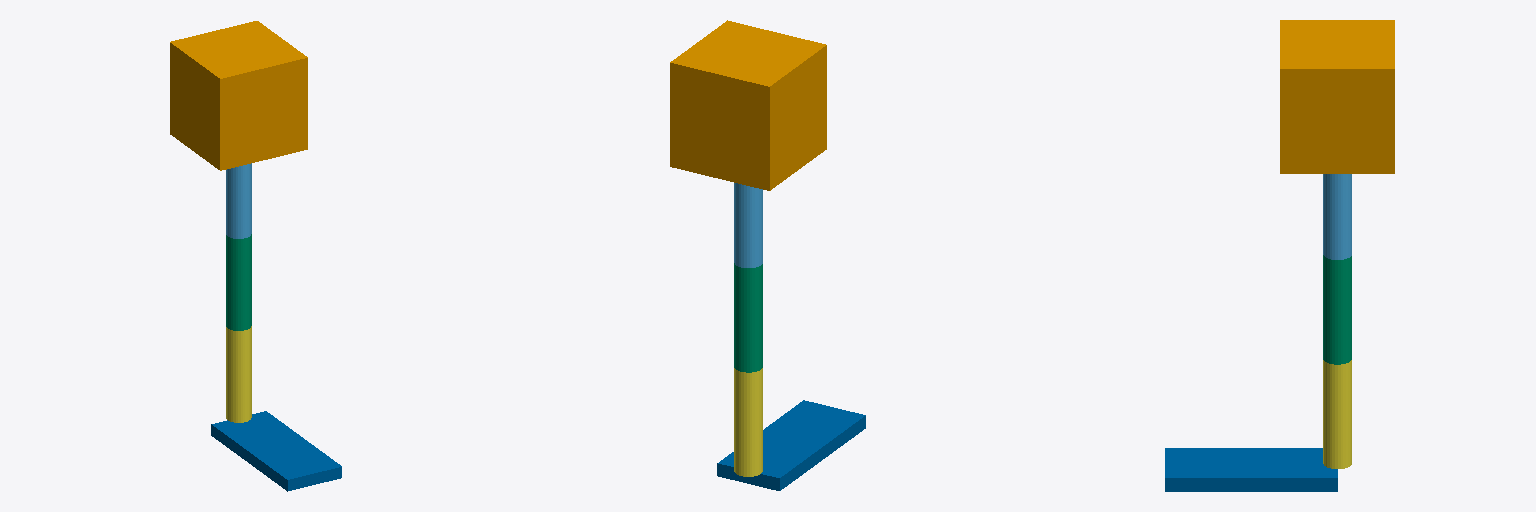
robot.urdf — hopping_robot:
<?xml version="1.0" encoding="utf-8"?>
<!-- =================================================================================== -->
<!-- |    This document was autogenerated by xacro from hopping_robot.xacro            | -->
<!-- |    EDITING THIS FILE BY HAND IS NOT RECOMMENDED                                 | -->
<!-- =================================================================================== -->
<!-- Author: [author]
     Email: [email redacted]
     Date: 09/29/2020   -->
<robot name="hopping_robot">
  <link name="torso">
    <visual>
      <geometry>
        <box size="0.4 0.4 0.4"/>
      </geometry>
      <material name="gray">
        <!-- color rgba="255 0 0 0.75" /-->
      </material>
      <origin rpy="0 0 0" xyz="0.0 0.0 0.0"/>
    </visual>
    <inertial>
      <origin rpy="0 0 0" xyz="0.0 0.0 0.0"/>
      <mass value="1.0"/>
      <!-- Fix the inertia tag-->
      <inertia ixx="0.0266666666667" iyy="0.0266666666667" izz="0.0266666666667"/>
    </inertial>
    <collision>
      <origin rpy="0 0 0" xyz="0.0 0.0 0.0"/>
      <geometry>
        <box size="0.4 0.4 0.4"/>
      </geometry>
    </collision>
  </link>
  <link name="link1">
    <visual>
      <geometry>
        <cylinder length="0.4" radius="0.05"/>
      </geometry>
      <material name="gray">
        <!-- color rgba="0 255 0 0.4" / -->
      </material>
      <origin rpy="0 0 0" xyz="0 0 0"/>
    </visual>
    <inertial>
      <origin rpy="0 0 0" xyz="0 0 0"/>
      <mass value="1.0"/>
      <inertia ixx="0.0133333333333" iyy="0.0133333333333" izz="0.0133333333333"/>
    </inertial>
    <collision>
      <origin rpy="0 0 0" xyz="0 0 0"/>
      <geometry>
        <cylinder length="0.4" radius="0.05"/>
      </geometry>
    </collision>
  </link>
  <link name="link2">
    <visual>
      <geometry>
        <cylinder length="0.4" radius="0.05"/>
      </geometry>
      <material name="gray">
        <!-- color rgba="233 0 255 0.4" / -->
      </material>
      <origin rpy="0 0 0" xyz="0 0 -0.2"/>
    </visual>
    <inertial>
      <origin rpy="0 0 0" xyz="0 0 -0.2"/>
      <mass value="1.0"/>
      <inertia ixx="0.0133333333333" iyy="0.0133333333333" izz="0.0133333333333"/>
    </inertial>
    <collision>
      <origin rpy="0 0 0" xyz="0 0 -0.2"/>
      <geometry>
        <cylinder length="0.4" radius="0.05"/>
      </geometry>
    </collision>
  </link>
  <link name="link3">
    <visual>
      <geometry>
        <cylinder length="0.4" radius="0.05"/>
      </geometry>
      <material name="gray">
        <!-- color rgba="0 0 255 0.4"/ -->
      </material>
      <origin rpy="0 0 0" xyz="0 0 -0.2"/>
    </visual>
    <inertial>
      <origin rpy="0 0 0" xyz="0 0 -0.2"/>
      <mass value="1.0"/>
      <inertia ixx="0.0133333333333" iyy="0.0133333333333" izz="0.0133333333333"/>
    </inertial>
    <collision>
      <origin rpy="0 0 0" xyz="0 0 -0.2"/>
      <geometry>
        <cylinder length="0.4" radius="0.05"/>
      </geometry>
    </collision>
  </link>
  <link name="foot">
    <visual>
      <geometry>
        <box size="0.25 0.6 0.05"/>
      </geometry>
      <material name="gray">
        <!-- color rgba="0 255 0 0.5" / -->
      </material>
      <origin rpy="0 0 0" xyz="0.0 -0.3 0.0"/>
    </visual>
    <inertial>
      <origin rpy="0 0 0" xyz="0.0 -0.3 0.0"/>
      <mass value="1.0"/>
      <!-- Fix the inertia tag-->
      <inertia ixx="0.0302083333333" iyy="0.00541666666667" izz="0.0352083333333"/>
    </inertial>
    <collision>
      <origin rpy="0 0 0" xyz="0.0 -0.3 0.0"/>
      <geometry>
        <box size="0.25 0.6 0.05"/>
      </geometry>
    </collision>
  </link>
  <joint name="torso_leg" type="fixed">
    <parent link="torso"/>
    <child link="link1"/>
    <origin rpy="0 0 0" xyz="0.0 0.0 -0.4"/>
    <axis xyz="0 0 0"/>
  </joint>
  <joint name="link1_link2" type="revolute">
    <origin rpy="0 0 0" xyz="0.0 0.0 -0.2"/>
    <axis xyz="1 0 0"/>
    <parent link="link1"/>
    <child link="link2"/>
    <!-- What to set these to? -->
    <limit effort="10" lower="-1.57" upper="1.57" velocity="1.0"/>
  </joint>
  <joint name="link2_link3" type="revolute">
    <origin rpy="0 0 0" xyz="0.0 0.0 -0.4"/>
    <axis xyz="1 0 0"/>
    <parent link="link2"/>
    <child link="link3"/>
    <!-- What to set these to? -->
    <limit effort="10" lower="-1.57" upper="1.57" velocity="1.0"/>
  </joint>
  <joint name="leg_foot" type="revolute">
    <origin rpy="0 0 0" xyz="0.0 0.0 -0.425"/>
    <axis xyz="1 0 0"/>
    <parent link="link3"/>
    <child link="foot"/>
    <!-- What to set these to? -->
    <limit effort="10" lower="0.0" upper="1.57" velocity="1.0"/>
  </joint>
  <transmission name="leg_foot_trans" type="transmission_interface/SimpleTransmission">
    <joint name="leg_foot_trans"/>
    <actuator name="leg_foot_trans"/>
    <!-- What to set these to? -->
    <motorInertia>0.0000049</motorInertia>
    <mechanicalReduction>50</mechanicalReduction>
  </transmission>
  <transmission name="link1_link2_trans" type="transmission_interface/SimpleTransmission">
    <joint name="link1_link2_trans"/>
    <actuator name="link1_link2_trans"/>
    <!-- What to set these to? -->
    <motorInertia>0.0000049</motorInertia>
    <mechanicalReduction>50</mechanicalReduction>
  </transmission>
  <transmission name="link2_link3_trans" type="transmission_interface/SimpleTransmission">
    <joint name="link2_link3_trans"/>
    <actuator name="link2_link3_trans"/>
    <!-- What to set these to? -->
    <motorInertia>0.0000049</motorInertia>
    <mechanicalReduction>50</mechanicalReduction>
  </transmission>
</robot>

--- Facts derived from the render (not from the file) ---
3 views of the same robot in one strip: view 1: azimuth 30°, elevation 25°; view 2: azimuth 150°, elevation 25°; view 3: azimuth 270°, elevation 25° (orthographic).
Robot: hopping_robot — 5 links, 4 joints (3 revolute, 1 fixed); root link torso; default pose: every joint at zero.
Visible links, largest first — view 1: torso, foot, link2, link3, link1; view 2: torso, foot, link2, link3, link1; view 3: torso, foot, link2, link3, link1.
Link boxes in pixels (x1,y1,x2,y2): torso: (170,21,307,170); foot: (211,411,341,491); link2: (226,234,251,330); link3: (226,326,251,422); link1: (226,163,251,238); torso: (670,20,826,190); foot: (717,400,865,490); link2: (734,263,762,372); link3: (734,368,762,476); link1: (734,183,762,267); torso: (1280,20,1394,173); foot: (1165,448,1337,491); link2: (1323,255,1351,364); link3: (1323,360,1351,468); link1: (1323,174,1351,259).
Bounding box of the posed robot: 0.4 × 0.8 × 1.65 m (x, y, z).
Geometry: primitives only (box / cylinder / sphere), no mesh files.
